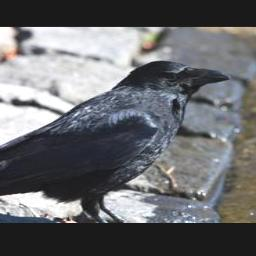Crow: (0, 59, 237, 223)
